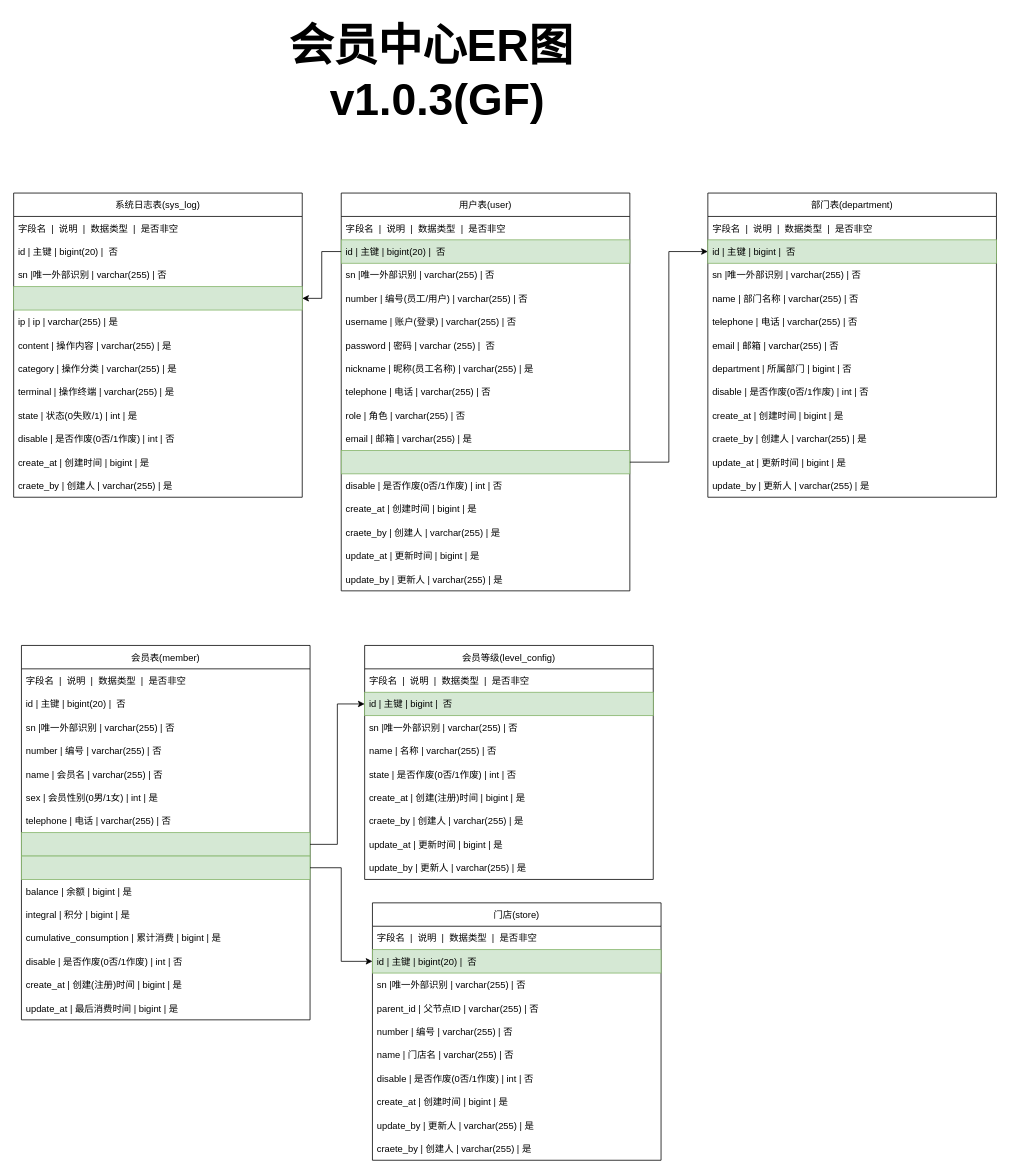
Some shapes in this 1010 by 1174 pixel diagram are drawn without their labels. Each missing label, with the centre of its shape:
"department | 所属部门 | bigint | 是" belongs at (x=485, y=462).
"member_level | 会员等级| bigint | 否" belongs at (x=165, y=844).
"store_id | 所属门店 | varchar (255) | 否" belongs at (x=165, y=867).
"user_id | 用户id | bigint | 是" belongs at (x=157, y=298).
